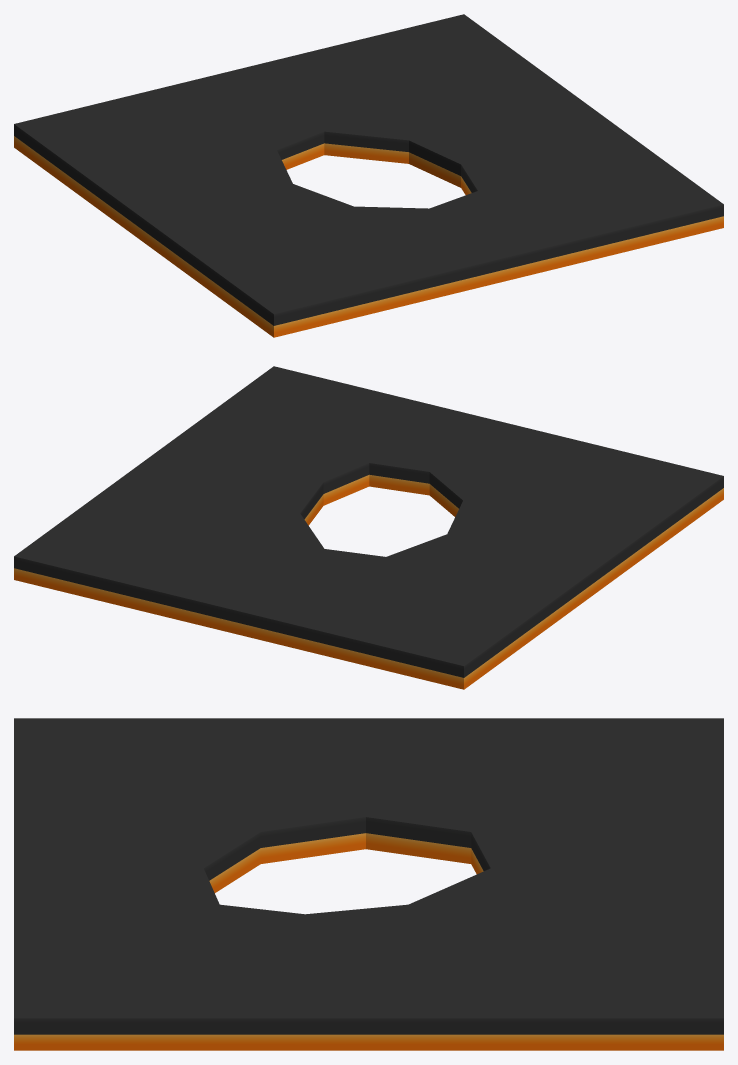
File: W3_GROUND_2.fbx
3 renders of one model, top to bottom at view 1: azimuth 30°, elevation 25°; view 2: azimuth 150°, elevation 25°; view 3: azimuth 270°, elevation 25°, orthographic. The views are drawn at different scales.
Parts seen in each view (by area): view 1: W3_GROUND_2; view 2: W3_GROUND_2; view 3: W3_GROUND_2.
Part boxes in pixels (box(x1,y1,x2,y2)): W3_GROUND_2: box(14, 14, 723, 337); W3_GROUND_2: box(14, 366, 723, 689); W3_GROUND_2: box(14, 718, 723, 1050).
Size of the model in its own units: 2000 by 100 by 2000.
